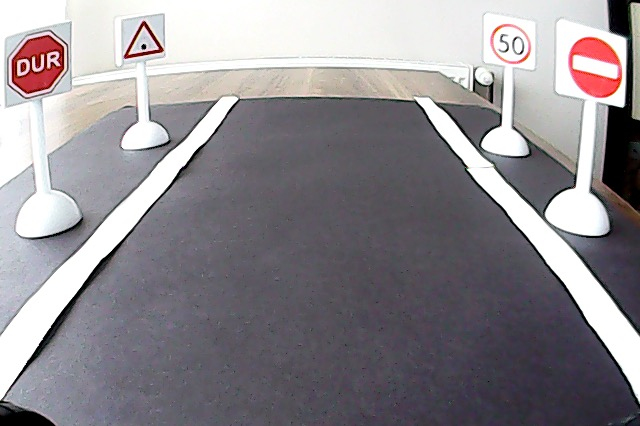do not enter: (563, 33, 625, 102)
green light: (122, 18, 165, 61)
speed limit 50: (487, 20, 535, 67)
stop sign: (6, 28, 69, 99)
